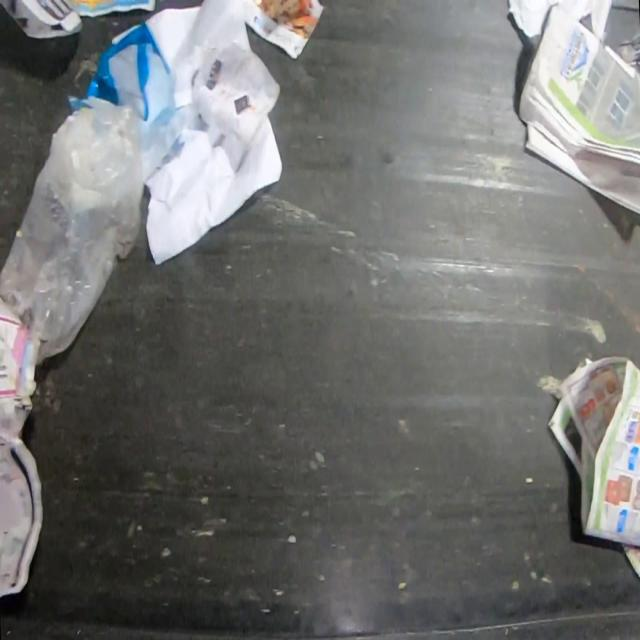soft_plastic: (0, 98, 144, 365), (83, 22, 195, 186)
